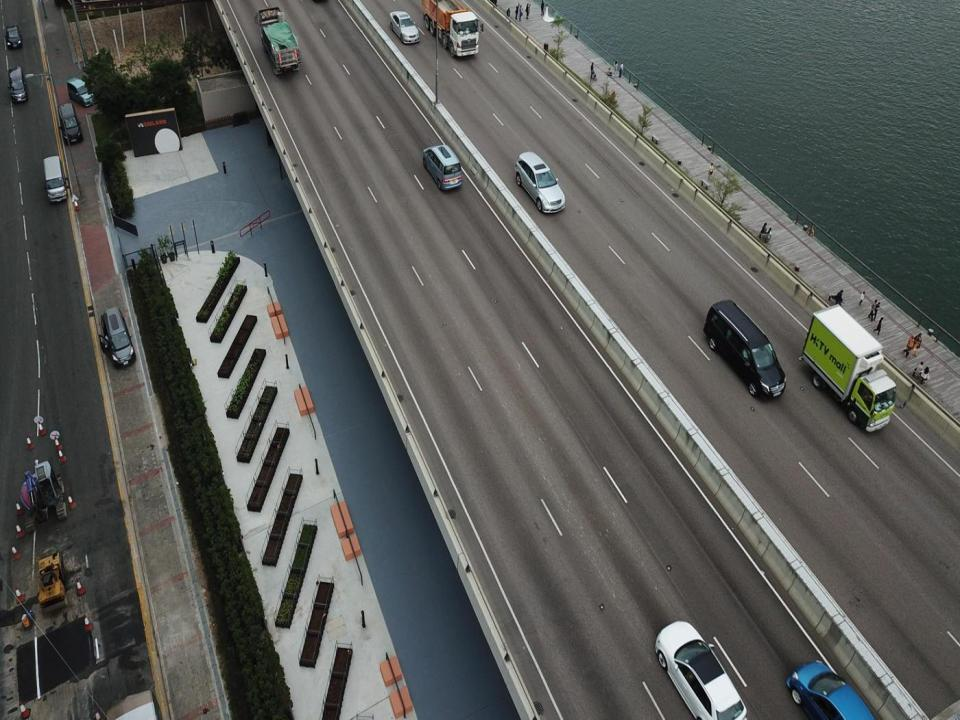car: (653, 619, 749, 719), (785, 654, 879, 719), (515, 150, 564, 215), (98, 306, 138, 369), (423, 142, 464, 192), (387, 9, 421, 47), (66, 74, 93, 109), (6, 18, 22, 51)
truck: (799, 302, 898, 432), (420, 0, 481, 61)
van: (703, 299, 786, 402), (252, 2, 305, 76), (42, 154, 68, 204), (58, 102, 82, 146), (7, 64, 27, 106)
